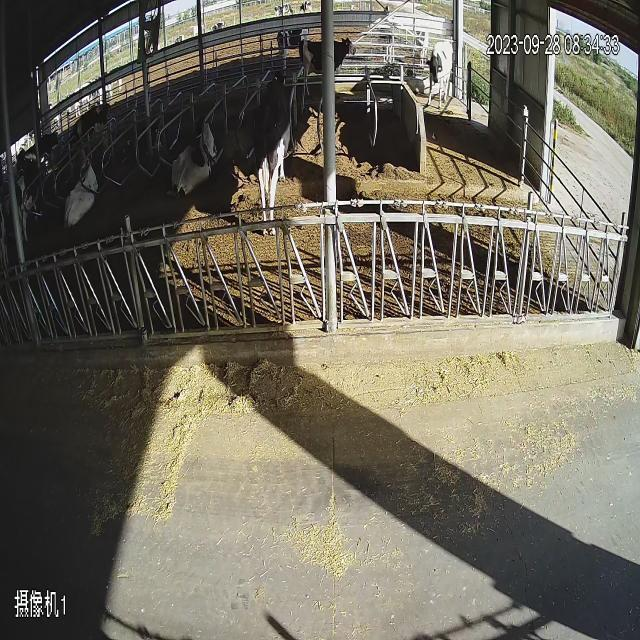lying down: (168, 105, 246, 249), (418, 23, 472, 108), (59, 149, 108, 241)
standing: (294, 30, 366, 84)
